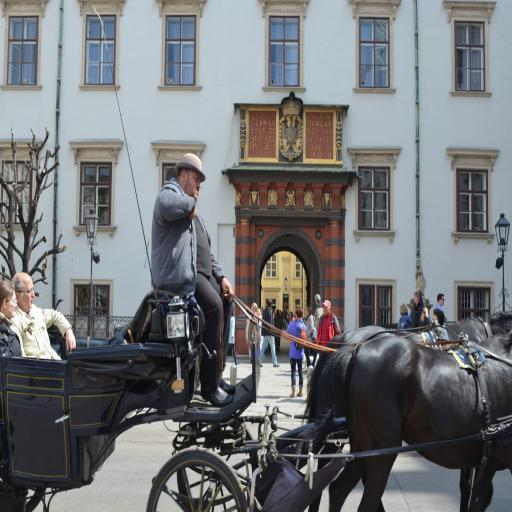horse: (300, 308, 512, 512), (315, 336, 512, 512)
